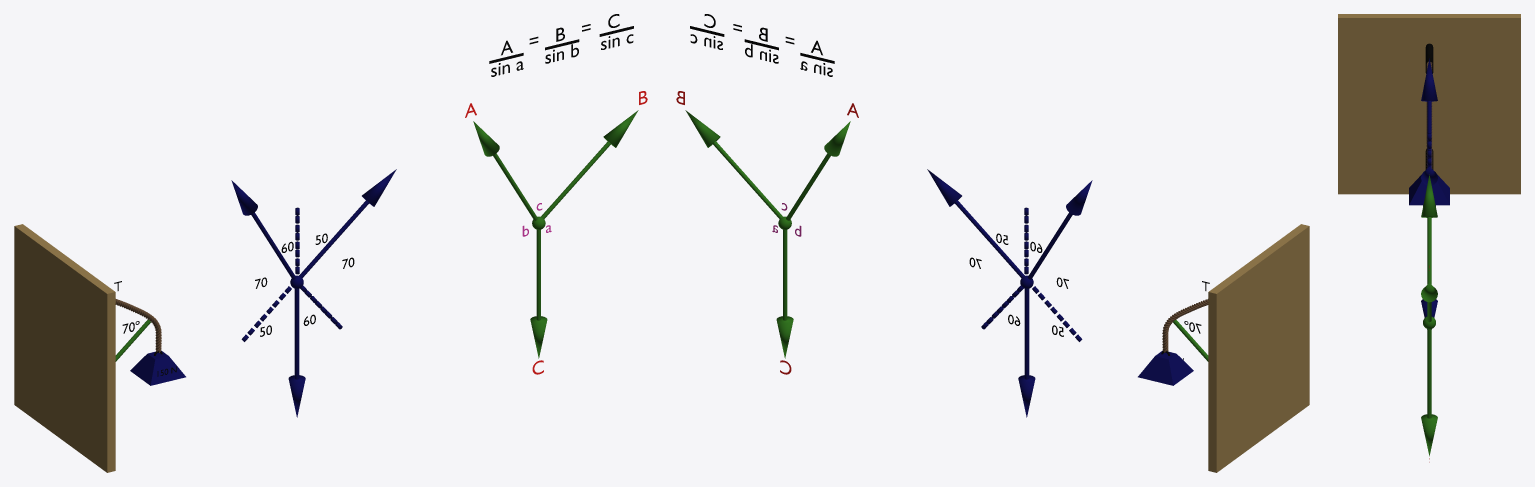
File: 9_fuerzas coplanares.fbx
3 views of the same model, side by side, from view 1: azimuth 30°, elevation 25°; view 2: azimuth 150°, elevation 25°; view 3: azimuth 270°, elevation 25° (orthographic).
Visible parts, largest first — view 1: Cube, Cube.001, Text.017; view 2: Cube, Cube.001, Text.017; view 3: Cube, Cube.001, Cylinder.028, Cone.002, Cone.005, Cone.003, Cylinder.030, Circle, Cone.004, Cone.001.
Boxes of the visible parts, box(x1,y1,x2,y2) form: Cube: box(14, 224, 115, 472); Cube.001: box(130, 350, 185, 385); Text.017: box(491, 14, 633, 76); Cube: box(1208, 224, 1309, 472); Cube.001: box(1138, 351, 1193, 385); Text.017: box(690, 14, 832, 76); Cube: box(1338, 14, 1520, 194); Cube.001: box(1409, 175, 1449, 205); Cylinder.028: box(1427, 329, 1431, 418); Cone.002: box(1421, 58, 1437, 101); Cone.005: box(1421, 174, 1437, 217); Cone.003: box(1421, 414, 1437, 456); Cylinder.030: box(1427, 217, 1431, 284); Circle: box(1426, 61, 1432, 168); Cone.004: box(1421, 283, 1437, 302); Cone.001: box(1421, 167, 1437, 185).
Bounding box in the file's own units: 4488 × 2497 × 1229.
